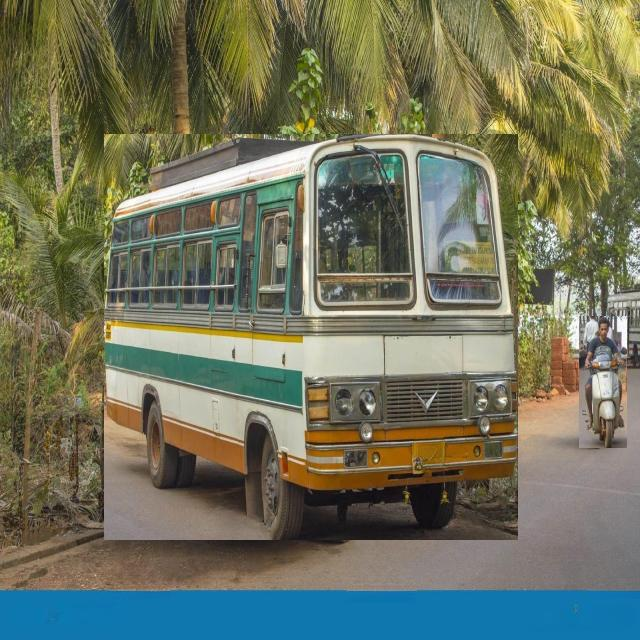bus: (104, 135, 518, 540)
motorcycle: (579, 316, 627, 448)
